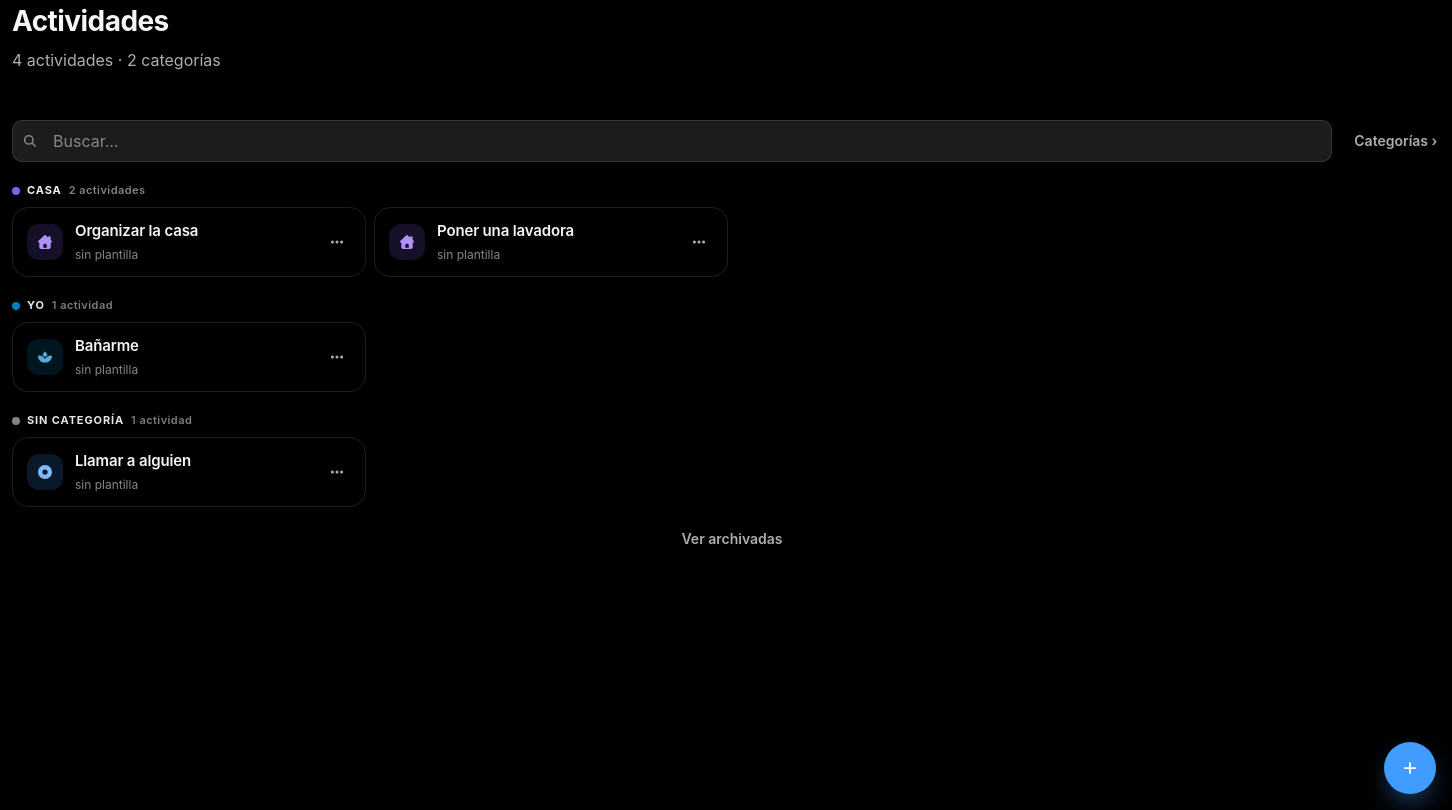
VidaActividadesPage › el buscador filtra sin tildes y esconde los grupos vacíos (criterio 5)
The width and height of the screenshot is (1452, 810).
Type "banar" into the search field named "Buscar actividades" at point(672, 141), box [12, 120, 1332, 162]
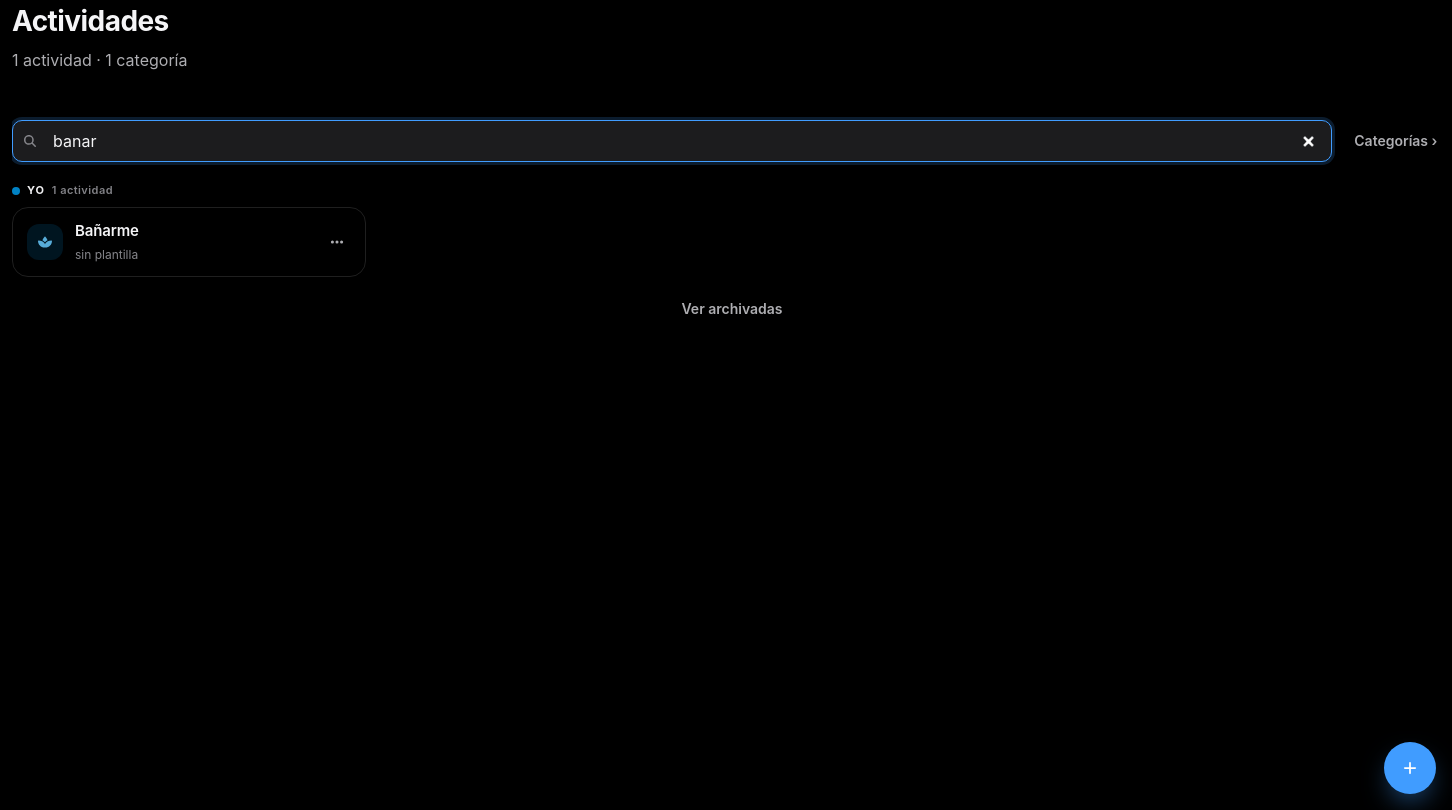
Expected: the text "Bañarme" is shown, [75, 221, 139, 240]
Now the text "Organizar la casa" is gone
